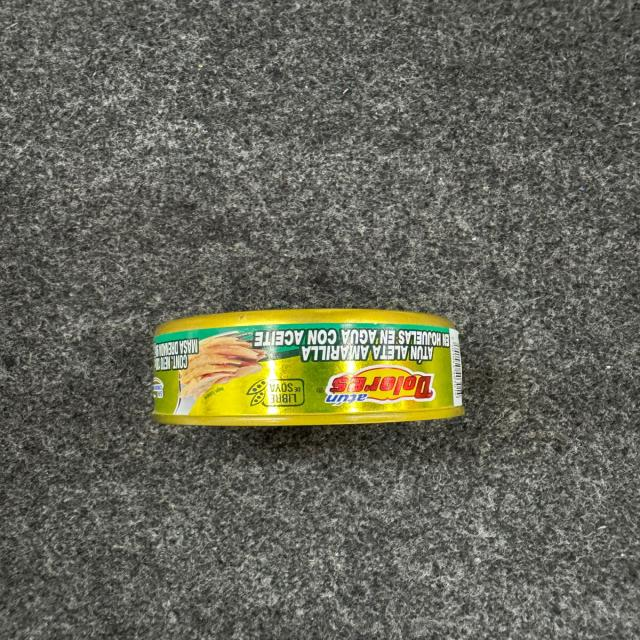ATUN DOLORES EN ACEITE 130GRS: (151, 308, 469, 426)
